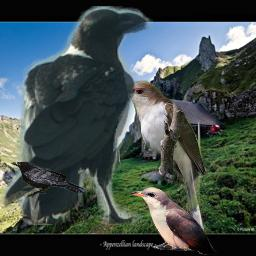Crow: (0, 6, 153, 225), (11, 161, 85, 198)
Cuckoo: (113, 80, 208, 255), (130, 187, 217, 255)
